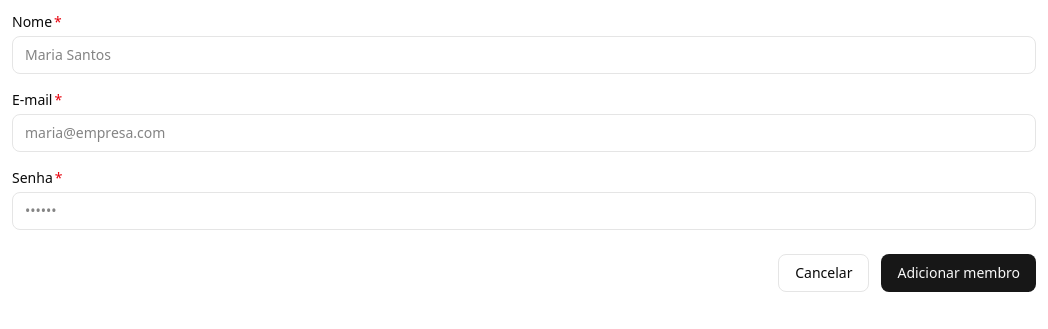
Test: TeamForm — validação › senha fraca (< 8 chars) → erro após blur
// Usar o input pelo id em vez do label (label tem asterisco interno)
Type "abc" into the password field labelled "Senha*". click: (524, 211)
box: [12,192,1036,230]
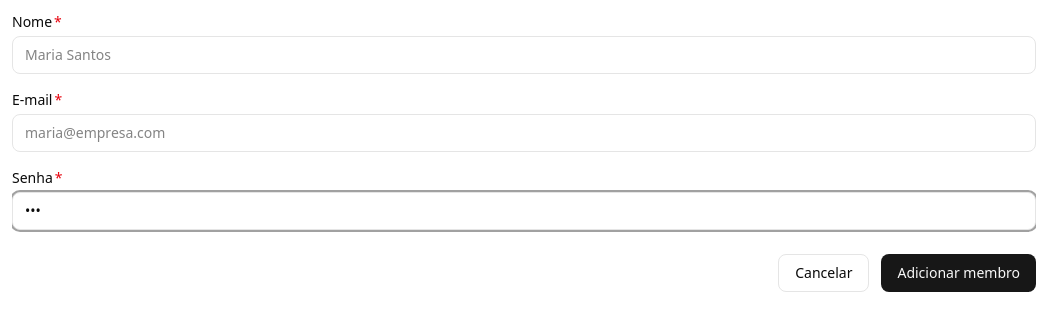
Press Tab
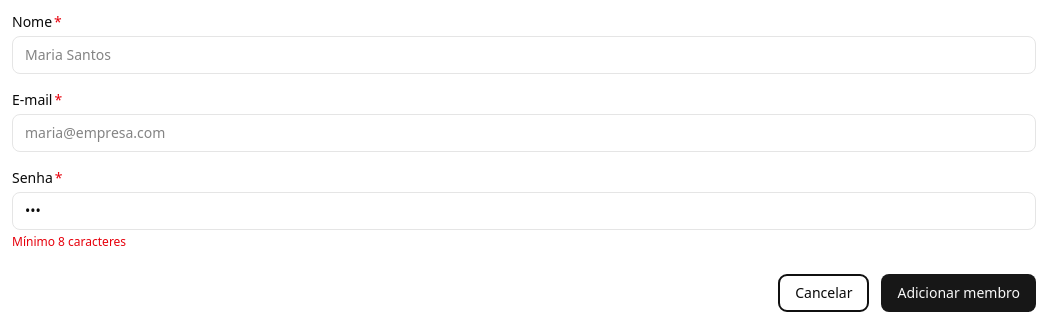
Expected: the message reads "Mínimo 8 caracteres", [12,233,126,250]
